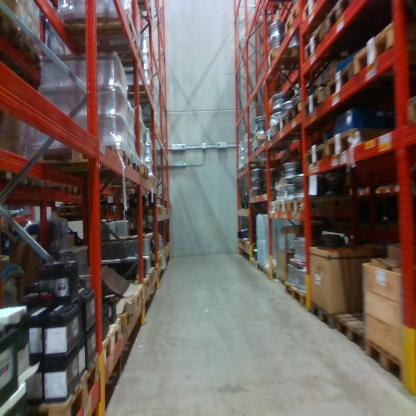pallet: (32, 351, 109, 414), (326, 52, 413, 107), (350, 15, 411, 85), (19, 142, 132, 176), (57, 12, 138, 53), (325, 126, 396, 160), (324, 0, 377, 44), (80, 43, 149, 75), (87, 321, 132, 366), (366, 332, 403, 383), (316, 289, 361, 328), (301, 140, 345, 178), (288, 193, 356, 216), (299, 22, 329, 73), (336, 309, 367, 358), (263, 40, 302, 74), (304, 81, 335, 121), (22, 38, 54, 75), (249, 116, 285, 146), (107, 299, 139, 332), (277, 0, 304, 33), (126, 81, 155, 109), (124, 280, 149, 308), (63, 179, 89, 205), (3, 10, 21, 46), (288, 287, 312, 313), (295, 0, 322, 22), (285, 101, 302, 128), (278, 275, 294, 298), (278, 192, 289, 217), (137, 270, 153, 287), (142, 159, 153, 182), (132, 156, 142, 180), (263, 264, 277, 281), (149, 268, 159, 287), (269, 195, 279, 212), (256, 261, 265, 276), (247, 257, 260, 267)
